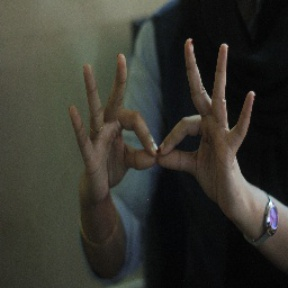B: (91, 72, 229, 187)
